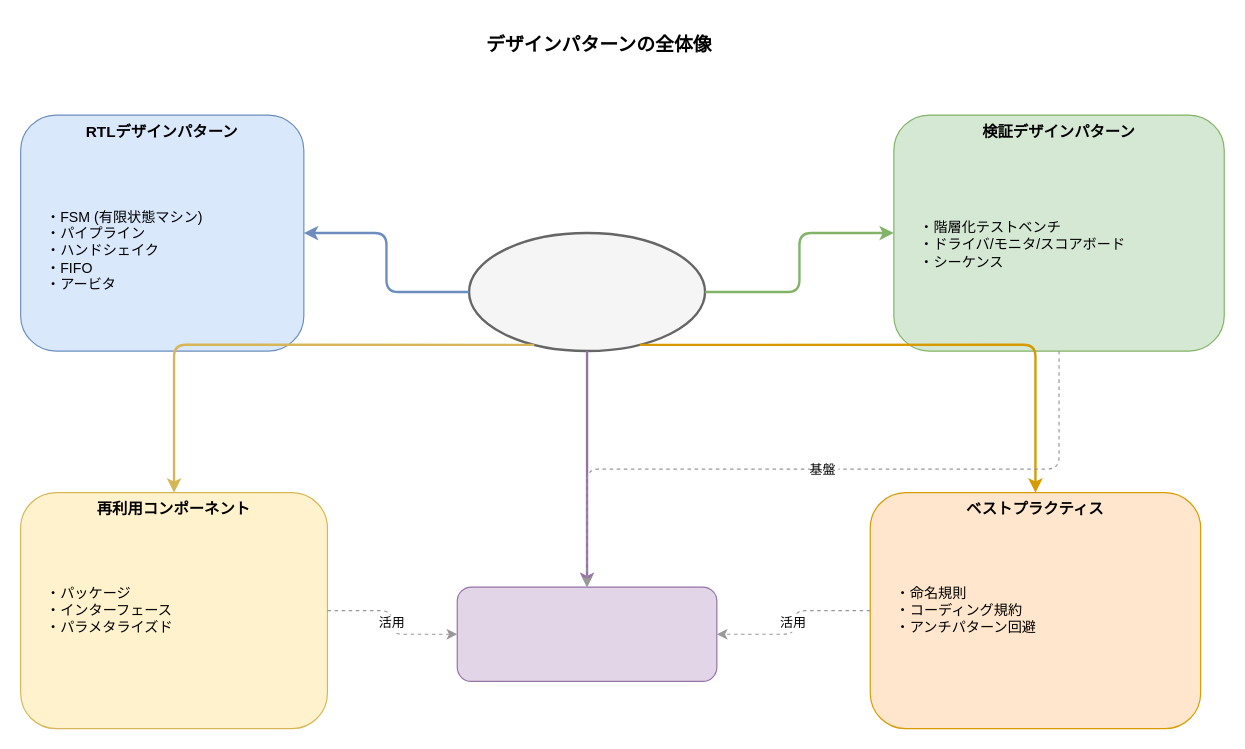
This 1245x749 diagram has some shape labels left out. Each missing label, with the centre of its shape:
SystemVerilog デザインパターン: [586,291]
UVM 業界標準の検証メソドロジ: [586,633]
